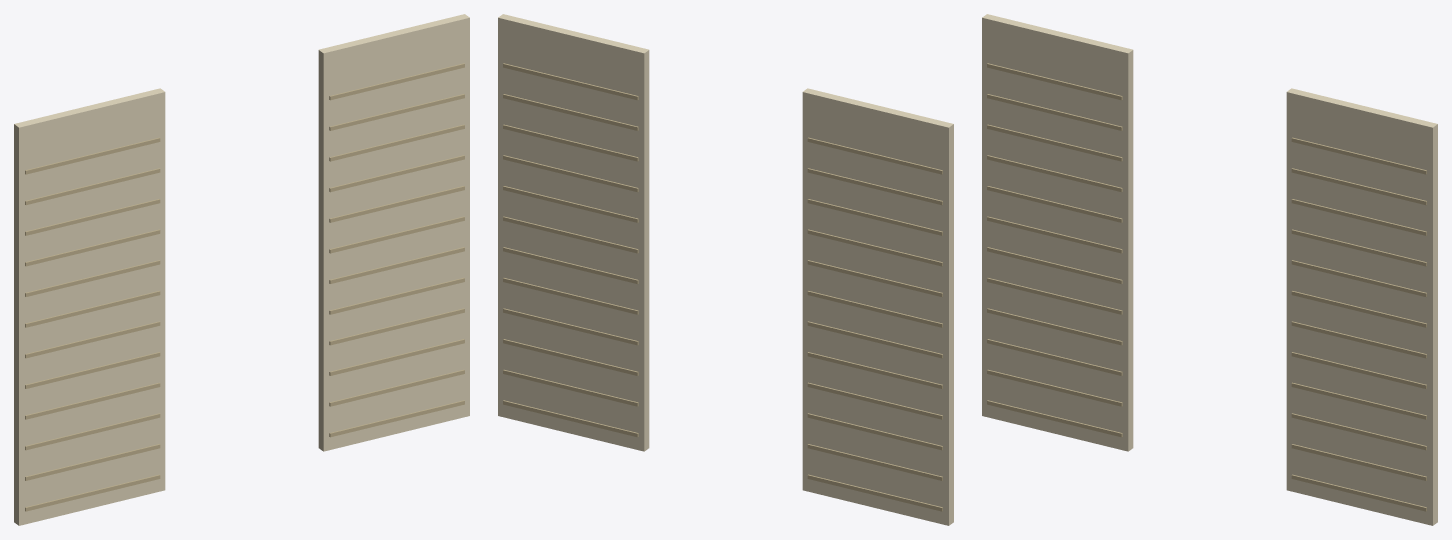
Rendered from shutters.obj.
3 renders of one model, left to right at view 1: azimuth 30°, elevation 25°; view 2: azimuth 150°, elevation 25°; view 3: azimuth 330°, elevation 25°, orthographic.
Parts seen in each view (by area): view 1: shutters_0, shutters_13, shutters_17, shutters_1, shutters_3, shutters_5, shutters_7, shutters_9, shutters_12, shutters_15, shutters_19, shutters_20 (+14 smaller); view 2: shutters_0, shutters_13, shutters_17, shutters_1, shutters_3, shutters_5, shutters_7, shutters_9, shutters_12, shutters_15, shutters_19, shutters_20 (+14 smaller); view 3: shutters_13, shutters_0, shutters_4, shutters_2, shutters_6, shutters_7, shutters_8, shutters_9, shutters_11, shutters_14, shutters_16, shutters_18 (+14 smaller).
Part boxes in pixels (box(x1,y1,x2,y2)): shutters_0: box(14, 88, 165, 525); shutters_13: box(318, 14, 469, 451); shutters_17: box(329, 308, 464, 345); shutters_1: box(25, 474, 160, 511); shutters_3: box(25, 413, 160, 450); shutters_5: box(25, 352, 160, 388); shutters_7: box(25, 291, 160, 327); shutters_9: box(25, 229, 160, 266); shutters_12: box(25, 137, 160, 174); shutters_15: box(329, 369, 464, 406); shutters_19: box(329, 247, 464, 283); shutters_20: box(329, 216, 464, 253); shutters_0: box(802, 88, 953, 525); shutters_13: box(498, 14, 649, 451); shutters_17: box(503, 308, 638, 345); shutters_1: box(807, 474, 942, 511); shutters_3: box(807, 413, 942, 450); shutters_5: box(807, 352, 942, 388); shutters_7: box(807, 291, 942, 327); shutters_9: box(807, 229, 942, 266); shutters_12: box(807, 137, 942, 174); shutters_15: box(503, 369, 638, 406); shutters_19: box(503, 247, 638, 283); shutters_20: box(503, 216, 638, 253); shutters_13: box(1286, 88, 1437, 525); shutters_0: box(982, 14, 1133, 451); shutters_4: box(987, 308, 1122, 345); shutters_2: box(987, 369, 1122, 406); shutters_6: box(987, 247, 1122, 283); shutters_7: box(987, 216, 1122, 253); shutters_8: box(987, 186, 1122, 222); shutters_9: box(987, 155, 1122, 192); shutters_11: box(987, 94, 1122, 130); shutters_14: box(1291, 474, 1426, 511); shutters_16: box(1291, 413, 1426, 450); shutters_18: box(1291, 352, 1426, 388).
Size of the model in its own units: 1.54 by 1.3 by 0.04.
